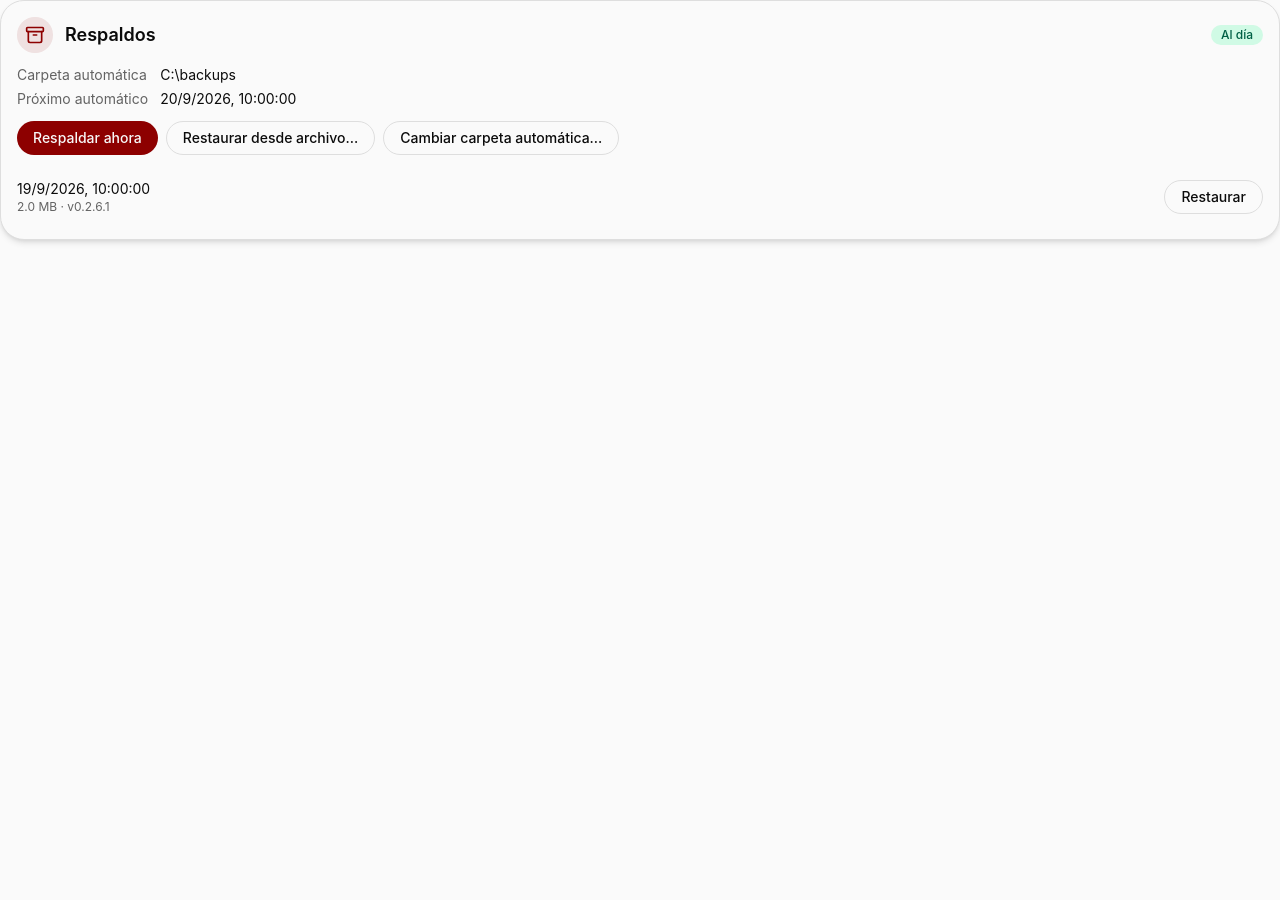
Test: BackupCard › backs up to this machine and reminds the owner to copy it to a USB
Expected: the text "C:\\backups" is shown, x1=160 y1=66 x2=236 y2=83
Step 1. Click the button "Respaldar ahora" → click(87, 138), box x1=17 y1=121 x2=158 y2=155
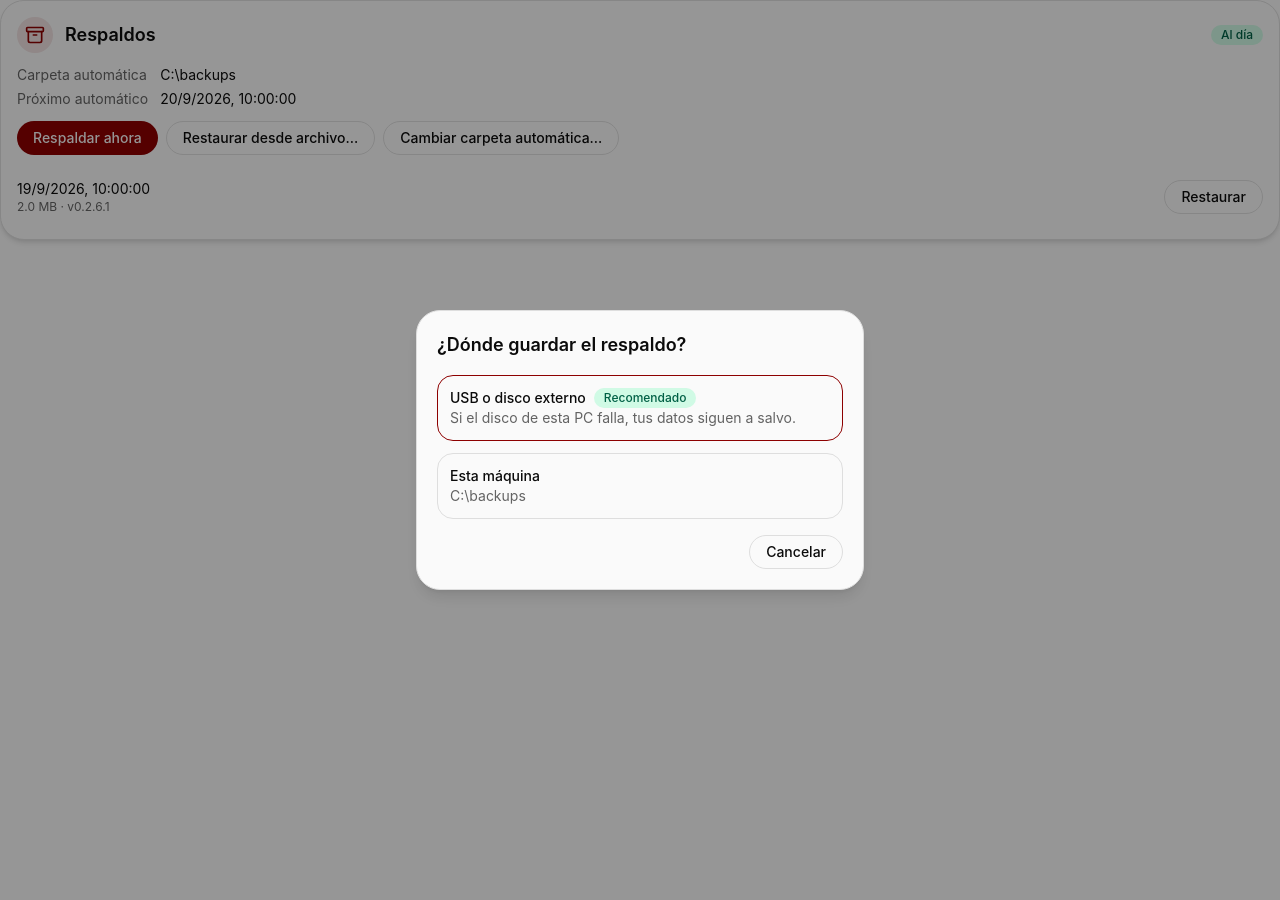
Step 2. Click the button "Esta máquina C:\\backups" → click(495, 476), box x1=437 y1=453 x2=843 y2=519
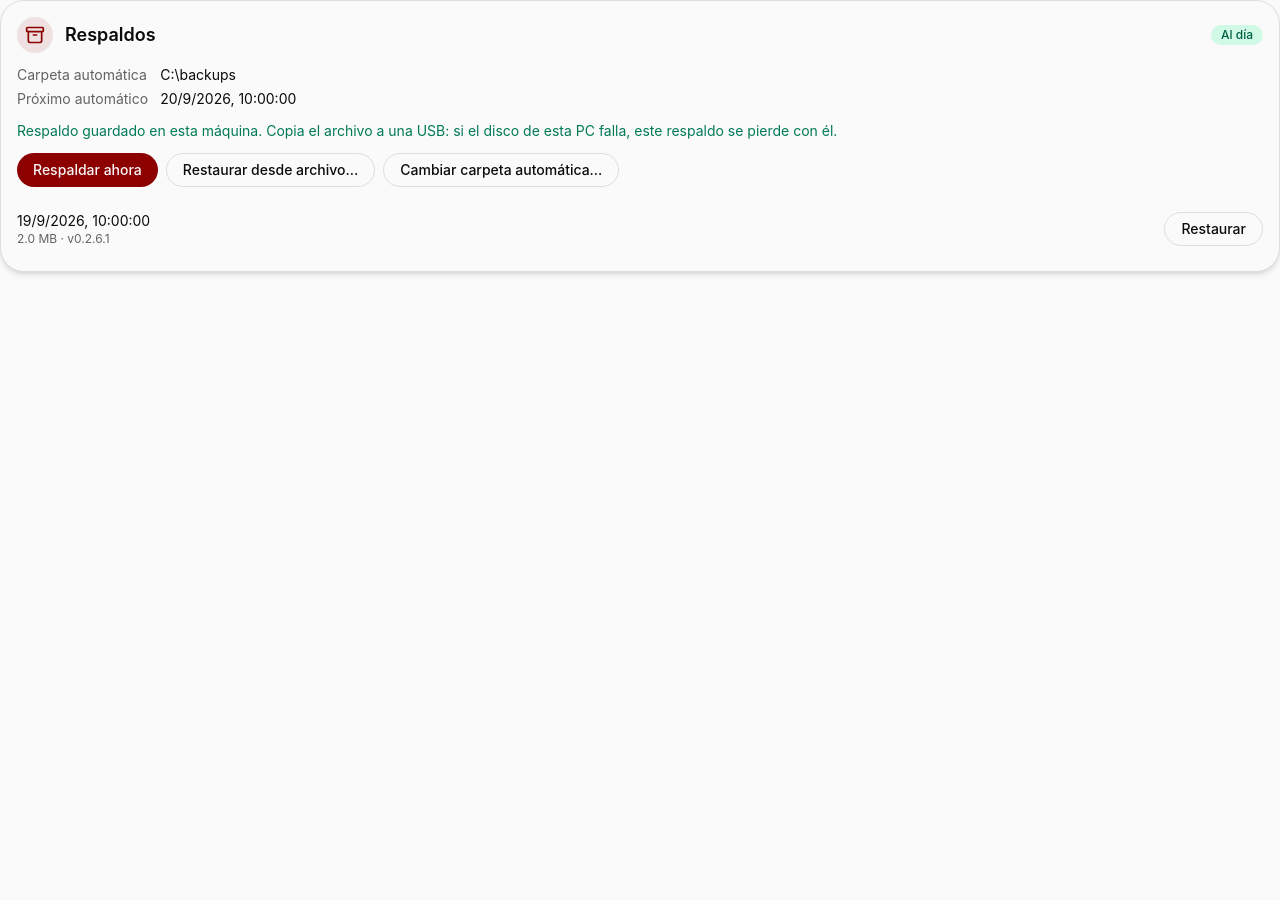
Now the text "Copia el archivo a una USB" is shown, box x1=17 y1=122 x2=837 y2=139
